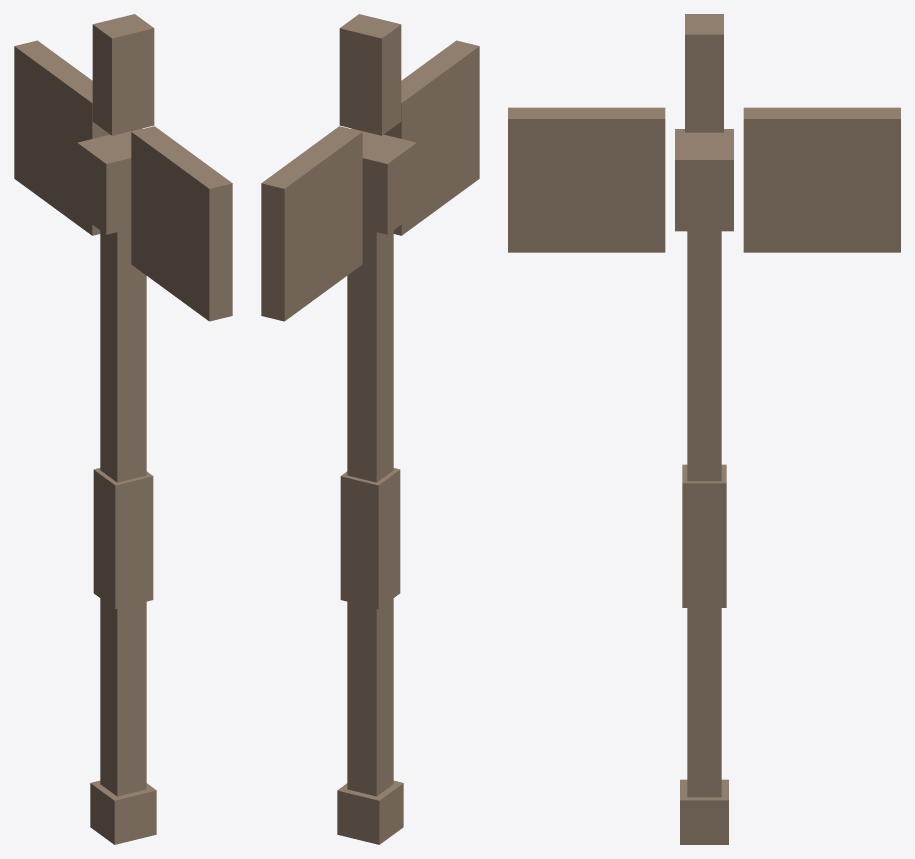
File: starter_axe_legacy.glb
3 views of the same model, side by side, from view 1: azimuth 30°, elevation 25°; view 2: azimuth 150°, elevation 25°; view 3: azimuth 270°, elevation 25° (orthographic).
Parts seen in each view (by area): view 1: upper_blade, lower_blade, haft_upper, haft_lower, grip_wrap, top_spike, head_socket, butt_cap; view 2: lower_blade, upper_blade, haft_upper, haft_lower, grip_wrap, top_spike, head_socket, butt_cap; view 3: upper_blade, lower_blade, haft_upper, haft_lower, head_socket, grip_wrap, top_spike, butt_cap.
Boxes of the visible parts, <box> form: upper_blade: <box>131,126,232,321</box>; lower_blade: <box>14,40,109,235</box>; haft_upper: <box>100,229,146,482</box>; haft_lower: <box>100,598,146,796</box>; grip_wrap: <box>93,468,153,609</box>; top_spike: <box>92,14,154,135</box>; head_socket: <box>77,128,142,234</box>; butt_cap: <box>90,780,156,844</box>; lower_blade: <box>261,126,362,321</box>; upper_blade: <box>384,40,479,235</box>; haft_upper: <box>347,229,393,482</box>; haft_lower: <box>347,598,393,796</box>; grip_wrap: <box>340,468,400,609</box>; top_spike: <box>339,14,401,135</box>; head_socket: <box>351,128,416,234</box>; butt_cap: <box>337,780,403,844</box>; upper_blade: <box>508,107,665,252</box>; lower_blade: <box>743,107,900,252</box>; haft_upper: <box>687,231,721,481</box>; haft_lower: <box>687,608,721,797</box>; head_socket: <box>675,129,733,231</box>; grip_wrap: <box>682,464,726,607</box>; top_spike: <box>685,14,723,132</box>; butt_cap: <box>680,779,728,844</box>.
Size of the model in its own units: 0.15 by 1.82 by 0.8.
